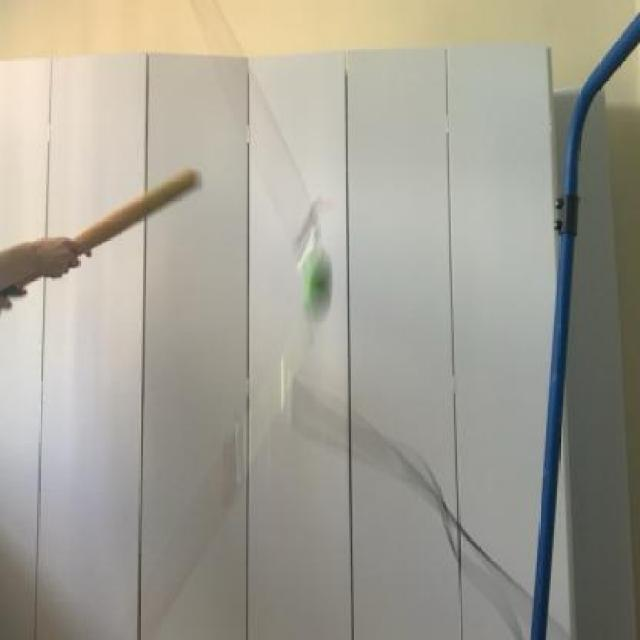baseball: (286, 238, 345, 337)
